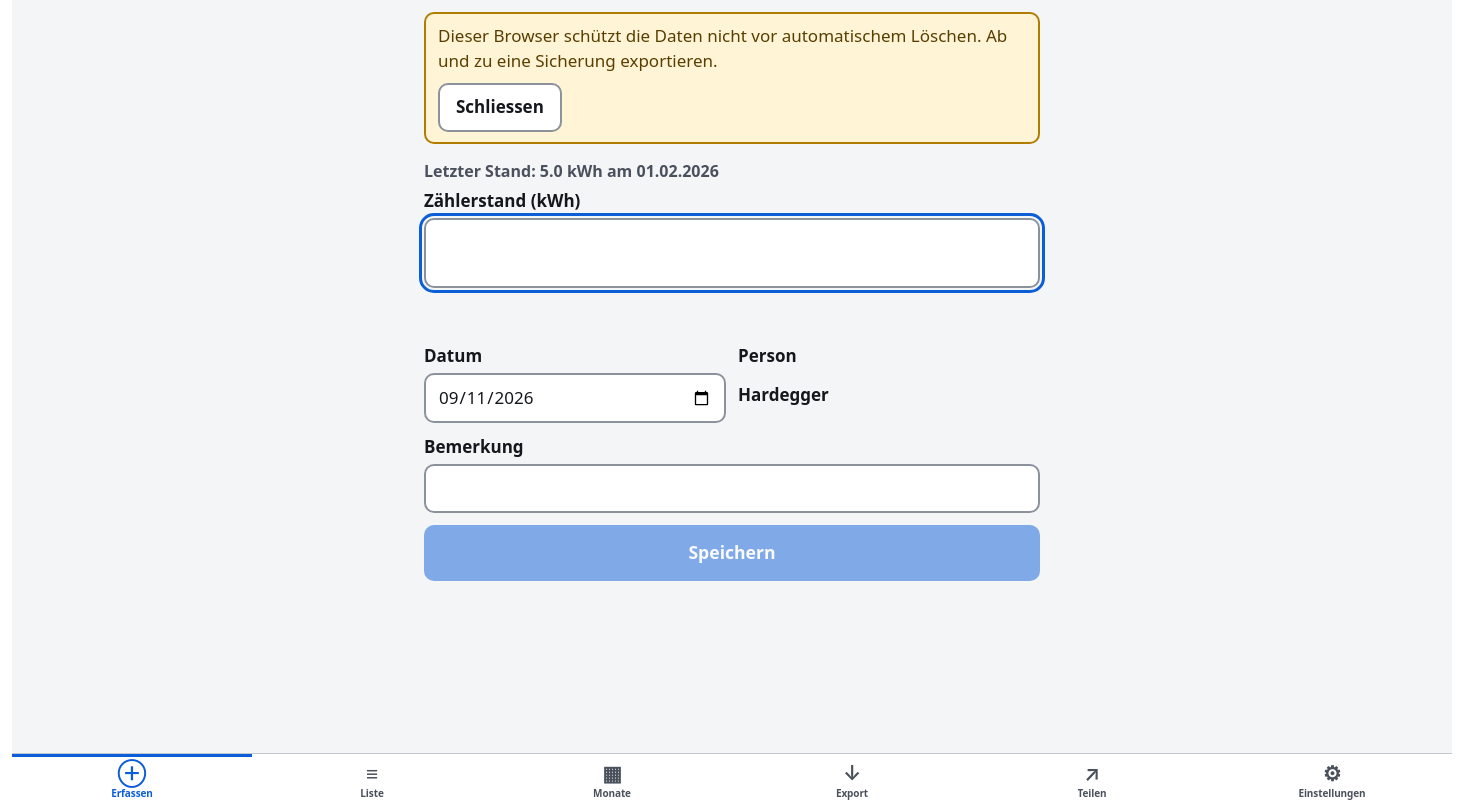
Test case: the reading list (FR-4) › flags a meter replacement
Click the button "≡ Liste": (372, 782) [252,754,492,809]
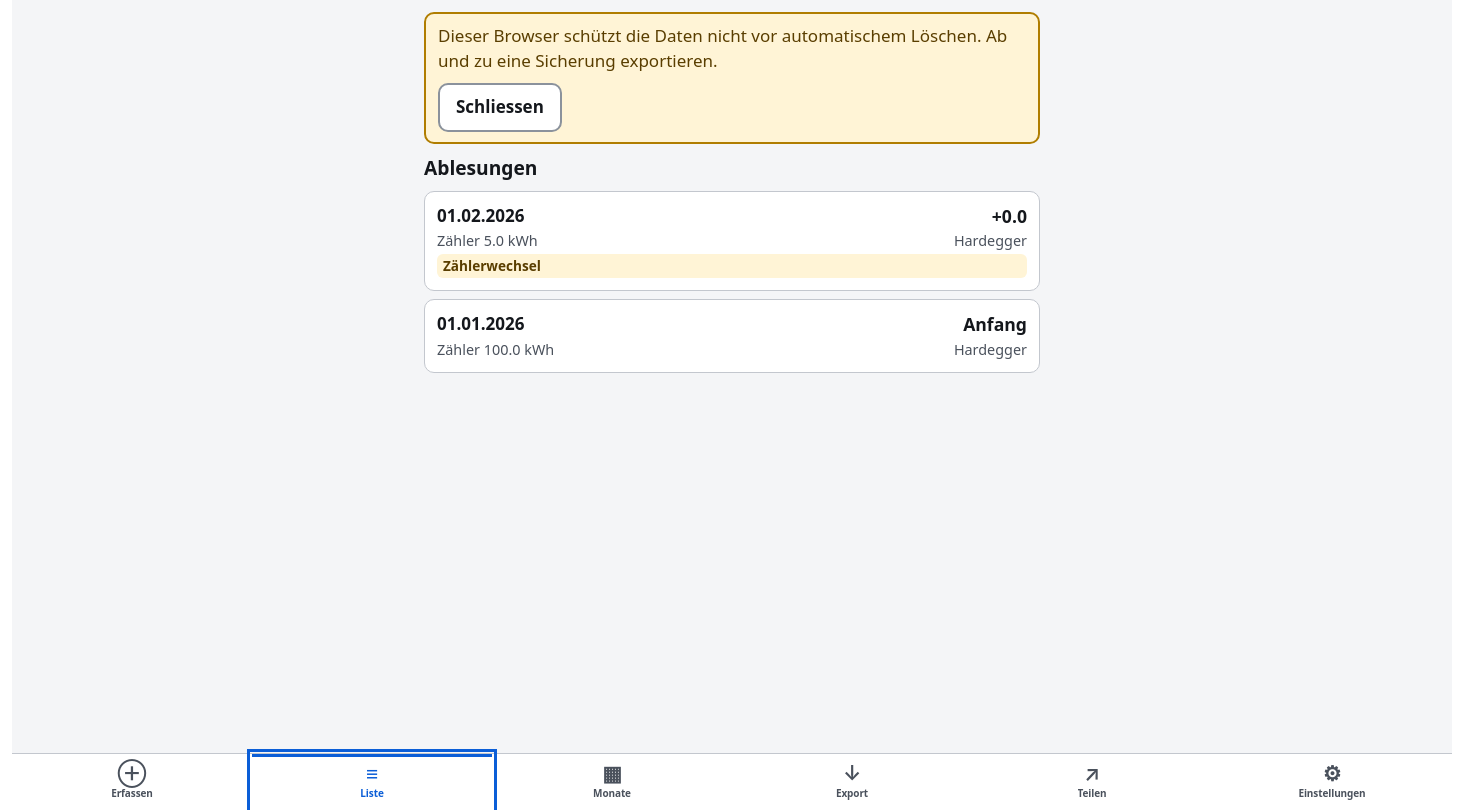
Expected: the text "Zählerwechsel" is shown, [437,254,1027,278]
